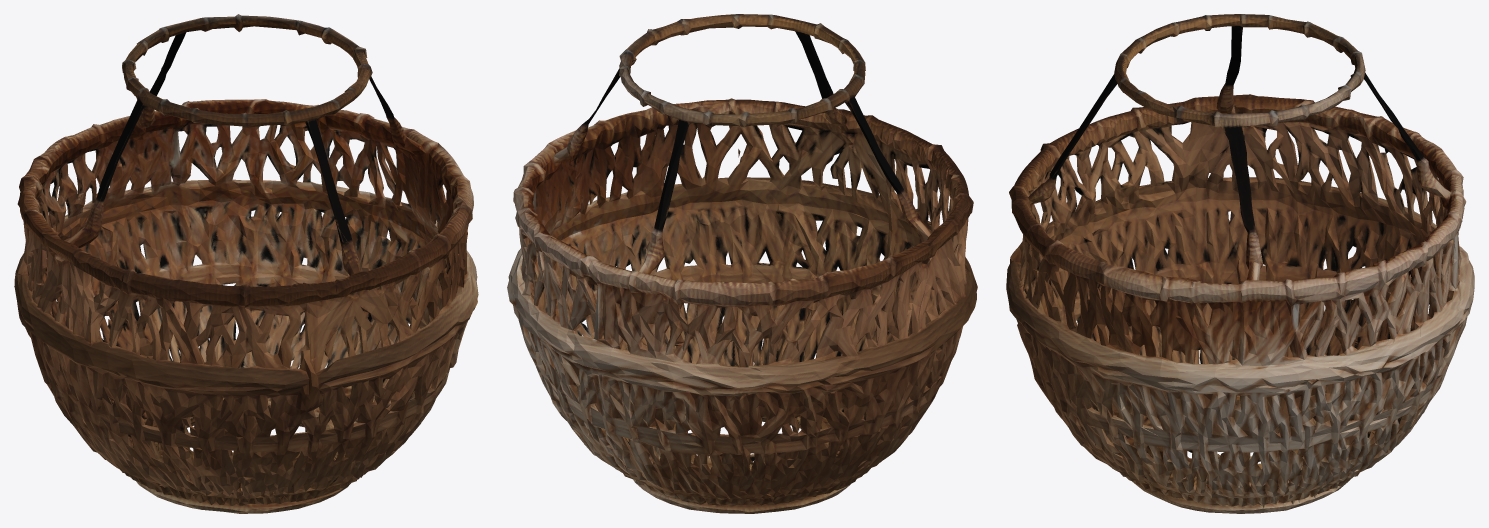
Rendered from palm-fiber-hanging-basket-organic hi-res.jpeg.glb.
The picture shows the model from 3 angles, left to right: view 1: azimuth 30°, elevation 25°; view 2: azimuth 150°, elevation 25°; view 3: azimuth 270°, elevation 25°; orthographic projection.
Parts seen in each view (by area): view 1: world; view 2: world; view 3: world.
Boxes of the visible parts, x1,y1,x2,y2 form: world: (14, 14, 478, 513); world: (507, 14, 977, 513); world: (1006, 14, 1474, 513).
Bounding box in the file's own units: 0.9968 × 0.9507 × 0.9971.
1 material, 1 textured.
